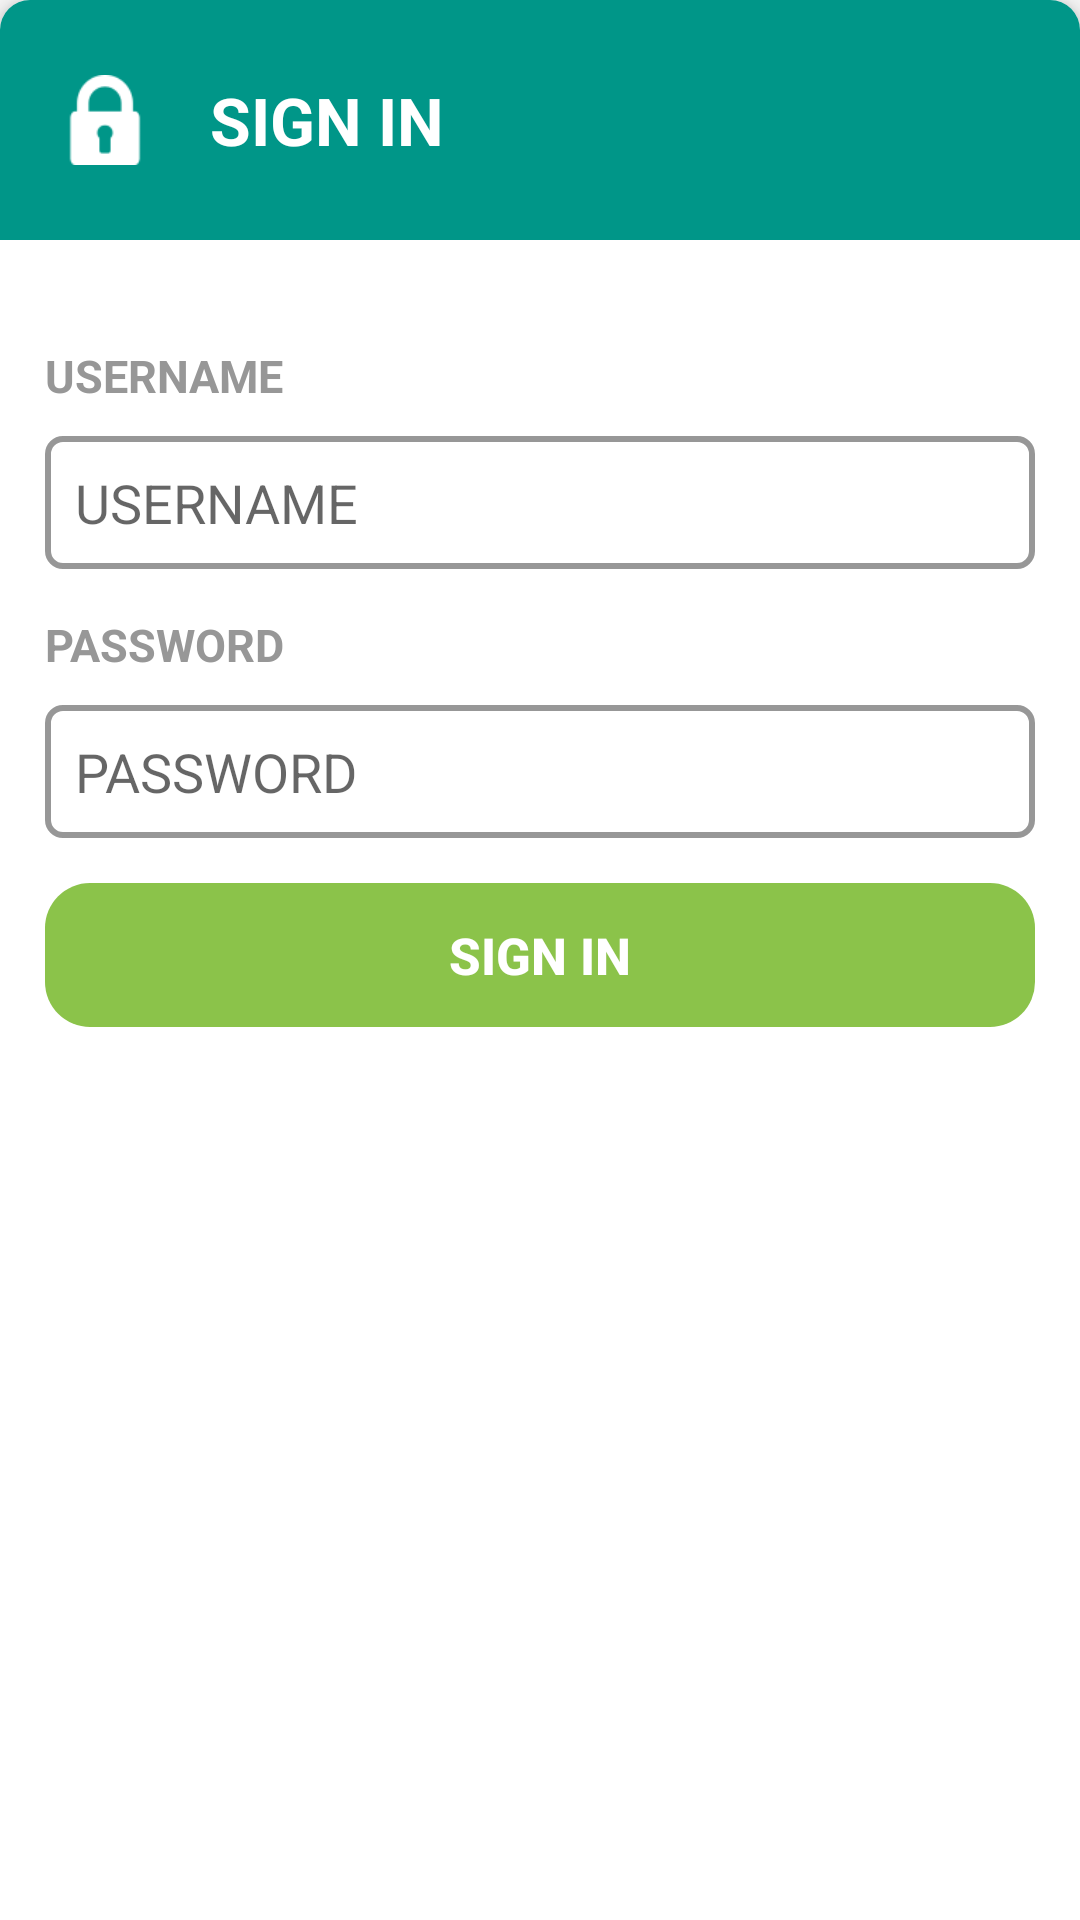

Icon bounding boxes for this 1080 x 1920 phone screenshot, format (x1, y1, x2, y2):
padlock: (69, 75, 141, 165)
